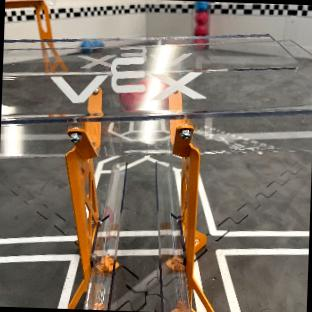Med_goal: (1, 34, 312, 312)
